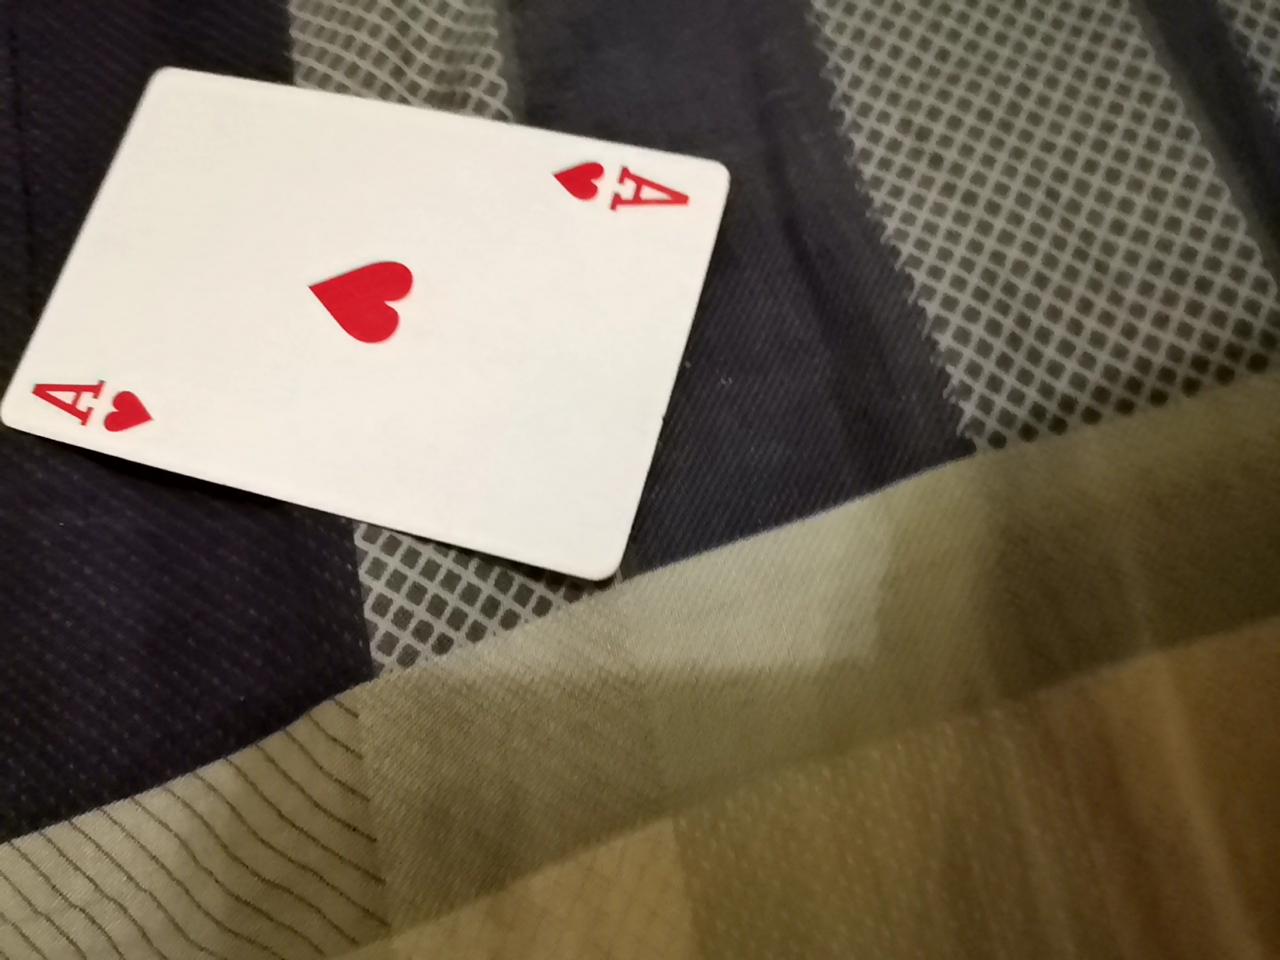hx a: (17, 91, 770, 609)
